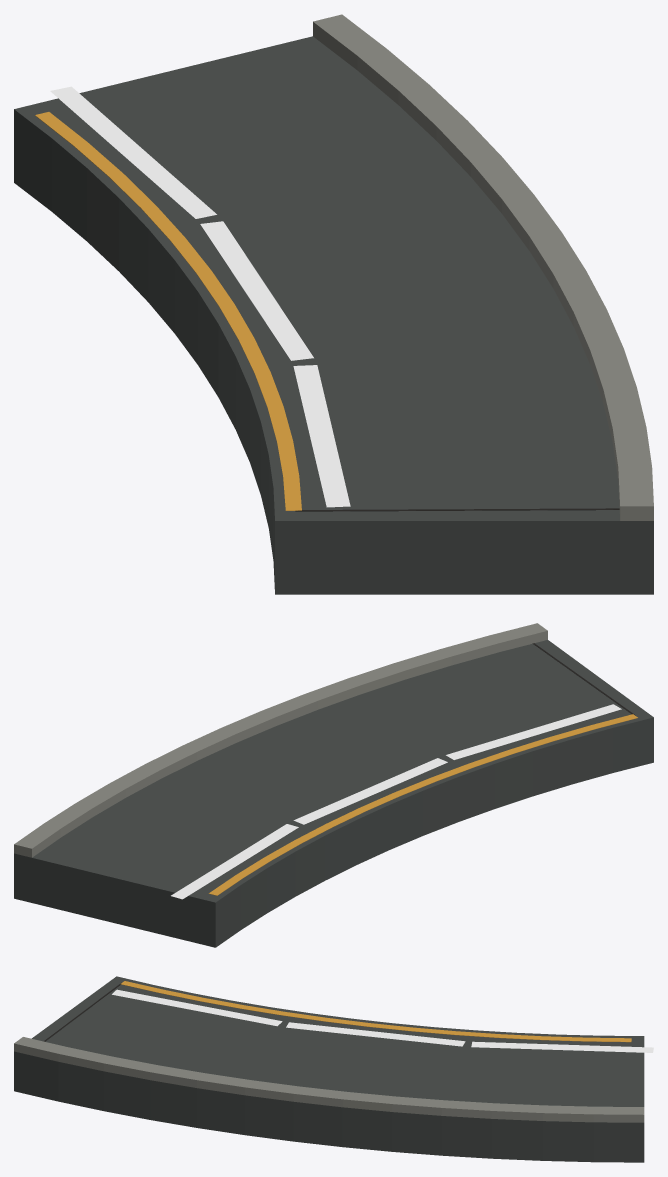
Rendered from core-rim-segment.glb.
The picture shows the model from 3 angles, top to bottom: view 1: azimuth 30°, elevation 25°; view 2: azimuth 150°, elevation 25°; view 3: azimuth 270°, elevation 25°; orthographic projection. The views are drawn at different scales.
Parts seen in each view (by area): view 1: core-rim-segment__core-rim-segment__concrete-dark, core-rim-segment__core-rim-segment__concrete, core-rim-segment__core-rim-segment__decal-hazard, core-rim-segment__core-rim-segment__amber; view 2: core-rim-segment__core-rim-segment__concrete-dark, core-rim-segment__core-rim-segment__concrete, core-rim-segment__core-rim-segment__decal-hazard, core-rim-segment__core-rim-segment__amber; view 3: core-rim-segment__core-rim-segment__concrete-dark, core-rim-segment__core-rim-segment__concrete, core-rim-segment__core-rim-segment__decal-hazard, core-rim-segment__core-rim-segment__amber.
Boxes of the visible parts, x1,y1,x2,y2 form: core-rim-segment__core-rim-segment__concrete-dark: [14, 36, 653, 594]; core-rim-segment__core-rim-segment__concrete: [313, 14, 653, 520]; core-rim-segment__core-rim-segment__decal-hazard: [50, 86, 350, 507]; core-rim-segment__core-rim-segment__amber: [35, 112, 301, 510]; core-rim-segment__core-rim-segment__concrete-dark: [14, 640, 653, 947]; core-rim-segment__core-rim-segment__concrete: [14, 623, 547, 857]; core-rim-segment__core-rim-segment__decal-hazard: [171, 704, 621, 899]; core-rim-segment__core-rim-segment__amber: [208, 714, 637, 895]; core-rim-segment__core-rim-segment__concrete-dark: [14, 976, 644, 1162]; core-rim-segment__core-rim-segment__concrete: [14, 1037, 644, 1122]; core-rim-segment__core-rim-segment__decal-hazard: [112, 989, 653, 1052]; core-rim-segment__core-rim-segment__amber: [120, 981, 631, 1042].
Bounding box in the file's own units: 4.73 × 0.72 × 8.73.
